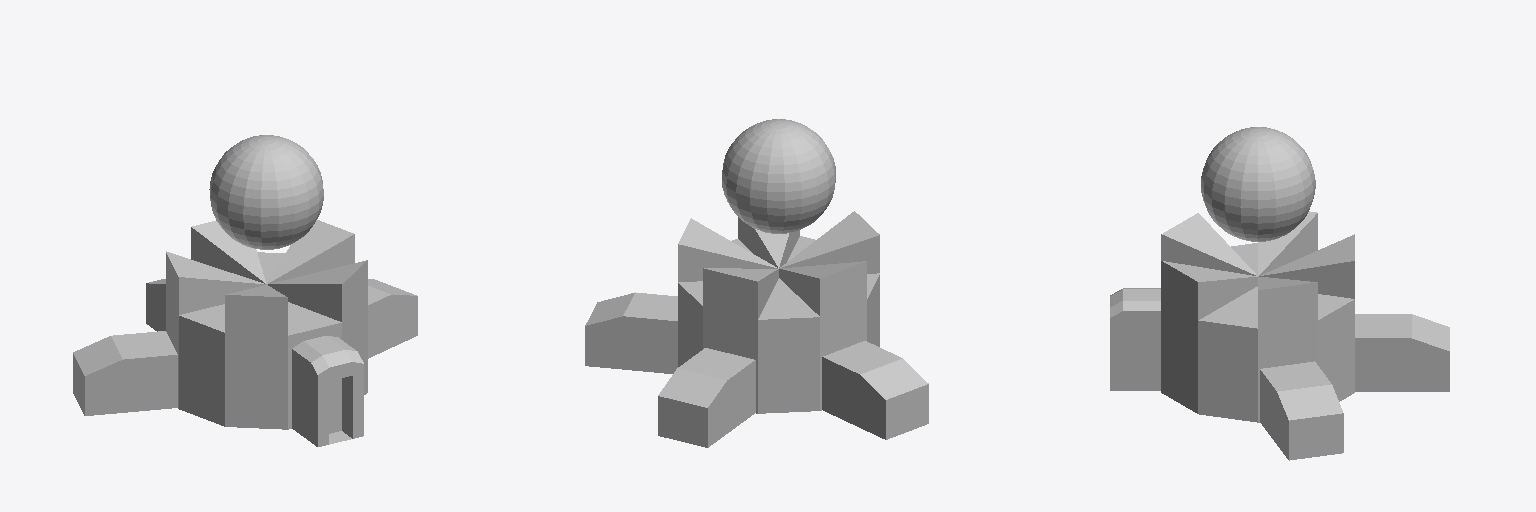
File: Lab.obj
3 views of the same model, side by side, from view 1: azimuth 30°, elevation 25°; view 2: azimuth 150°, elevation 25°; view 3: azimuth 270°, elevation 25° (orthographic).
Bounding box in the file's own units: 4.95 × 3.52 × 4.4.